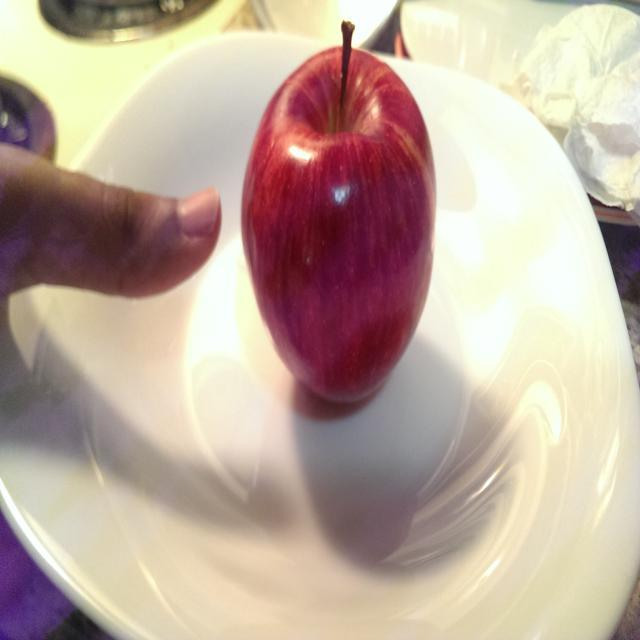Apple: (234, 14, 444, 418)
Finger: (92, 172, 228, 308)
